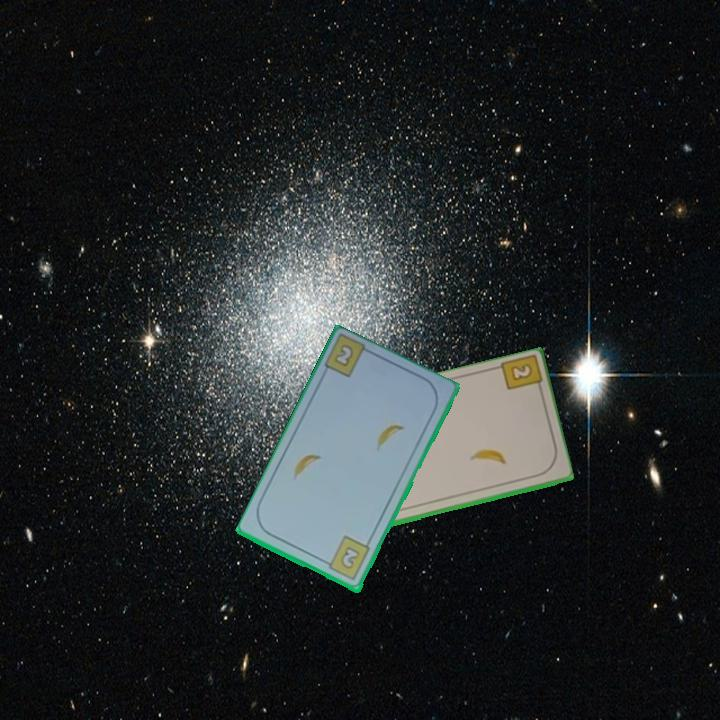2b: (320, 533, 373, 584), (495, 353, 545, 397), (331, 341, 356, 370)
